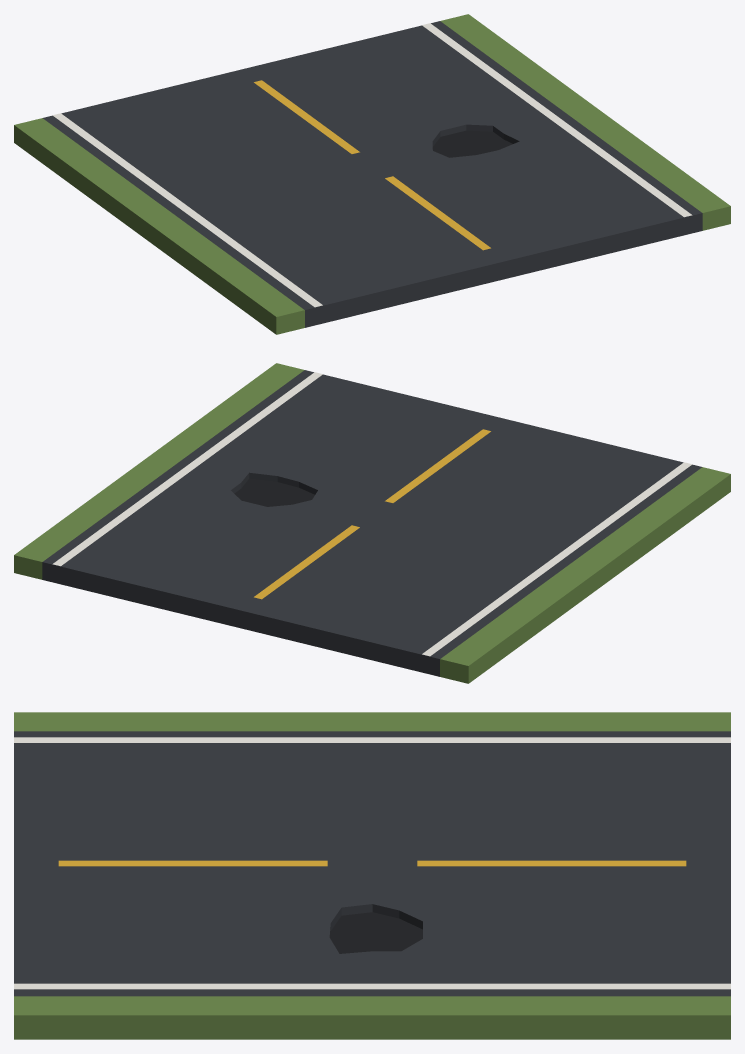
Rendered from Road_2Lane_NoSidewalk_Straight_8m_Pothole_Medium.glb.
3 renders of one model, top to bottom at view 1: azimuth 30°, elevation 25°; view 2: azimuth 150°, elevation 25°; view 3: azimuth 270°, elevation 25°, orthographic. The views are drawn at different scales.
Visible parts, largest first — view 1: Road_2Lane_NoSidewalk_Straight_8m_Pothole_Medium_Asphalt, Road_2Lane_NoSidewalk_Straight_8m_Pothole_Medium_Grass-edge, Road_2Lane_NoSidewalk_Straight_8m_Pothole_Medium_PaintWhite, Road_2Lane_NoSidewalk_Straight_8m_Pothole_Medium_PaintYellow, Road_2Lane_NoSidewalk_Straight_8m_Pothole_Medium_Rubber; view 2: Road_2Lane_NoSidewalk_Straight_8m_Pothole_Medium_Asphalt, Road_2Lane_NoSidewalk_Straight_8m_Pothole_Medium_Grass-edge, Road_2Lane_NoSidewalk_Straight_8m_Pothole_Medium_PaintWhite, Road_2Lane_NoSidewalk_Straight_8m_Pothole_Medium_PaintYellow, Road_2Lane_NoSidewalk_Straight_8m_Pothole_Medium_Rubber; view 3: Road_2Lane_NoSidewalk_Straight_8m_Pothole_Medium_Asphalt, Road_2Lane_NoSidewalk_Straight_8m_Pothole_Medium_Grass-edge, Road_2Lane_NoSidewalk_Straight_8m_Pothole_Medium_PaintWhite, Road_2Lane_NoSidewalk_Straight_8m_Pothole_Medium_PaintYellow, Road_2Lane_NoSidewalk_Straight_8m_Pothole_Medium_Rubber.
Boxes of the visible parts, bbox=[...] form: Road_2Lane_NoSidewalk_Straight_8m_Pothole_Medium_Asphalt: bbox=[43, 21, 702, 327]; Road_2Lane_NoSidewalk_Straight_8m_Pothole_Medium_Grass-edge: bbox=[14, 14, 730, 334]; Road_2Lane_NoSidewalk_Straight_8m_Pothole_Medium_PaintWhite: bbox=[53, 23, 692, 307]; Road_2Lane_NoSidewalk_Straight_8m_Pothole_Medium_PaintYellow: bbox=[254, 80, 490, 250]; Road_2Lane_NoSidewalk_Straight_8m_Pothole_Medium_Rubber: bbox=[432, 130, 512, 157]; Road_2Lane_NoSidewalk_Straight_8m_Pothole_Medium_Asphalt: bbox=[42, 370, 701, 676]; Road_2Lane_NoSidewalk_Straight_8m_Pothole_Medium_Grass-edge: bbox=[14, 363, 730, 683]; Road_2Lane_NoSidewalk_Straight_8m_Pothole_Medium_PaintWhite: bbox=[52, 372, 691, 656]; Road_2Lane_NoSidewalk_Straight_8m_Pothole_Medium_PaintYellow: bbox=[254, 429, 490, 599]; Road_2Lane_NoSidewalk_Straight_8m_Pothole_Medium_Rubber: bbox=[234, 478, 314, 506]; Road_2Lane_NoSidewalk_Straight_8m_Pothole_Medium_Asphalt: bbox=[14, 731, 730, 996]; Road_2Lane_NoSidewalk_Straight_8m_Pothole_Medium_Grass-edge: bbox=[14, 712, 730, 1039]; Road_2Lane_NoSidewalk_Straight_8m_Pothole_Medium_PaintWhite: bbox=[14, 737, 730, 989]; Road_2Lane_NoSidewalk_Straight_8m_Pothole_Medium_PaintYellow: bbox=[58, 860, 686, 866]; Road_2Lane_NoSidewalk_Straight_8m_Pothole_Medium_Rubber: bbox=[330, 912, 422, 953].
Bounding box in the file's own units: 8 × 0.305 × 8.
